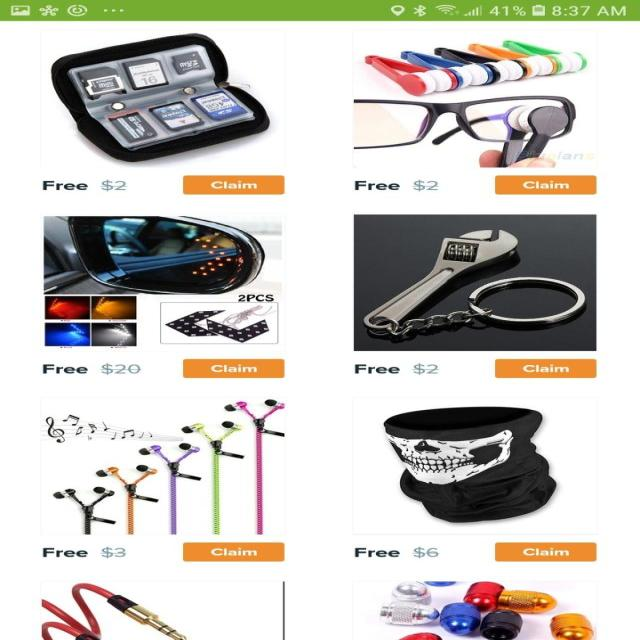Image: (39, 396, 286, 536), (350, 396, 598, 534), (351, 30, 597, 169), (40, 213, 286, 352), (39, 30, 286, 168), (353, 214, 596, 351), (350, 580, 598, 640), (39, 580, 284, 639)
Text: (42, 362, 142, 375), (41, 179, 128, 192), (354, 179, 439, 192), (354, 362, 439, 375), (354, 545, 439, 558), (42, 546, 126, 559)
TextButton: (182, 541, 284, 561), (494, 542, 596, 561), (182, 359, 284, 378), (494, 359, 596, 378), (182, 175, 284, 194), (494, 176, 596, 194)
